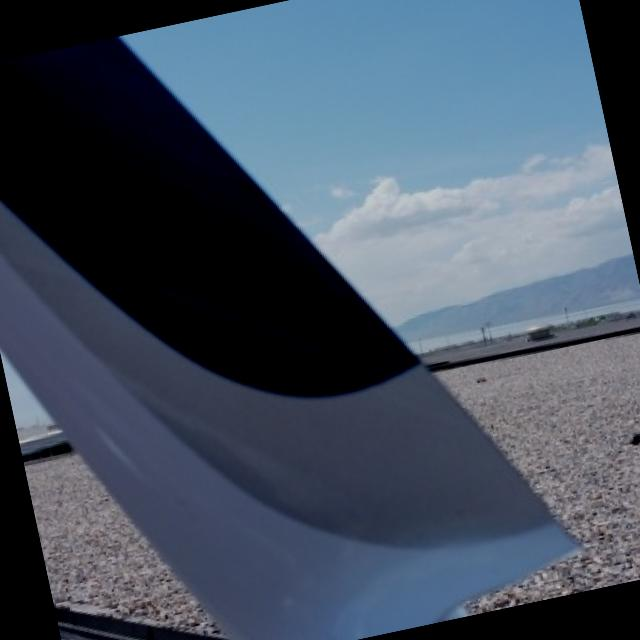healthy: (0, 37, 571, 640)
